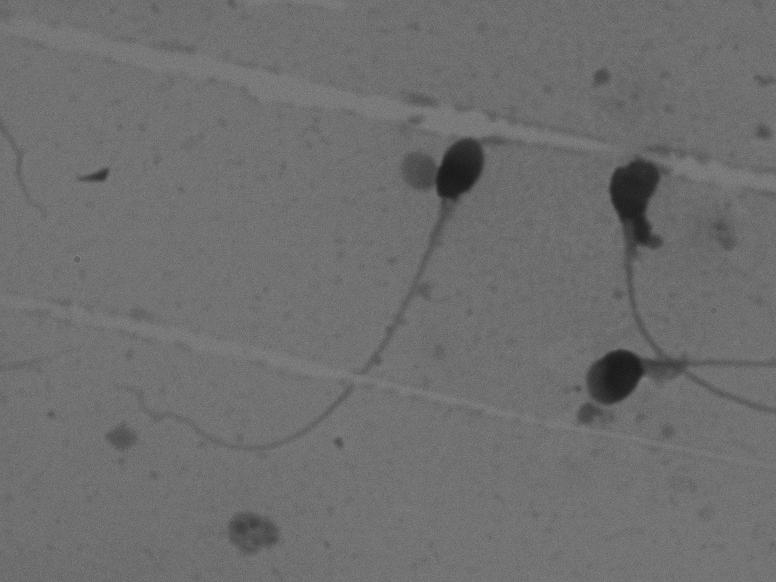Abnormal: (102, 99, 512, 514), (581, 140, 772, 425), (555, 304, 757, 453)
